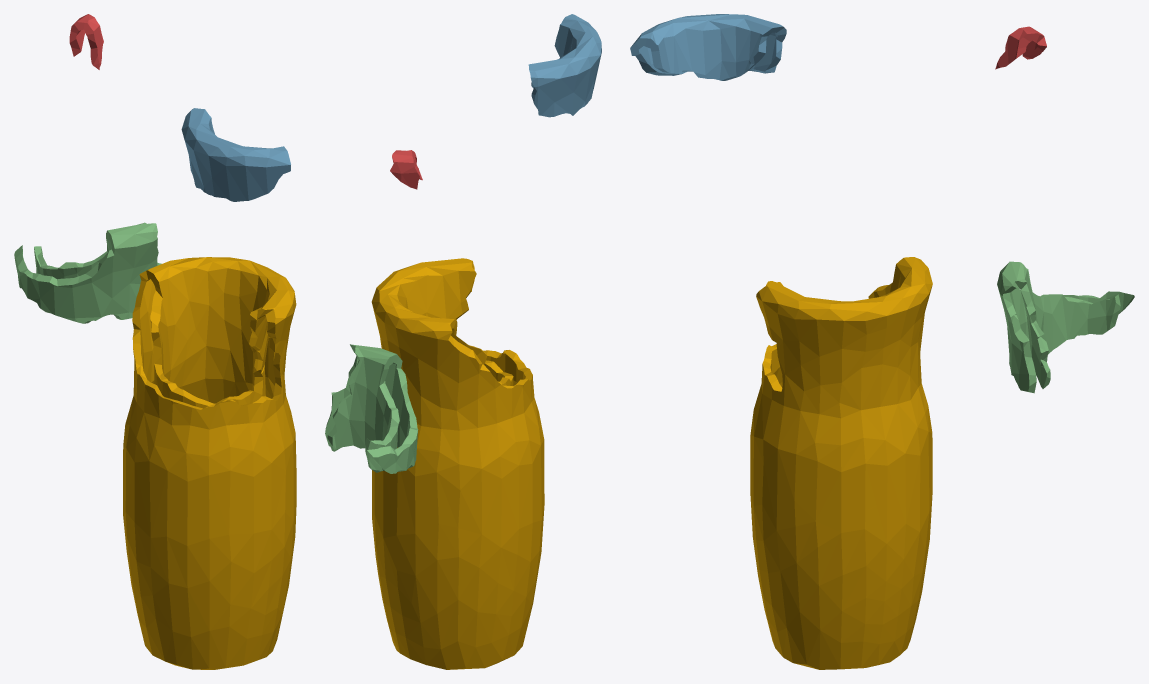
File: fractured_0_4pcs_transformed.glb
The picture shows the model from 3 angles, left to right: view 1: azimuth 30°, elevation 25°; view 2: azimuth 150°, elevation 25°; view 3: azimuth 270°, elevation 25°; orthographic projection. The views are drawn at different scales.
Parts seen in each view (by area): view 1: piece_0.obj, piece_3.obj, piece_2.obj, piece_12.obj; view 2: piece_0.obj, piece_3.obj, piece_2.obj, piece_12.obj; view 3: piece_0.obj, piece_2.obj, piece_3.obj, piece_12.obj.
Boxes of the visible parts, box(x1,y1,x2,y2) form: piece_0.obj: box(123, 257, 296, 669); piece_3.obj: box(14, 222, 161, 323); piece_2.obj: box(181, 108, 290, 201); piece_12.obj: box(69, 14, 103, 69); piece_0.obj: box(371, 258, 544, 669); piece_3.obj: box(325, 344, 418, 473); piece_2.obj: box(528, 14, 601, 117); piece_12.obj: box(390, 150, 422, 189); piece_0.obj: box(750, 257, 932, 669); piece_2.obj: box(630, 14, 786, 80); piece_3.obj: box(997, 261, 1134, 393); piece_12.obj: box(995, 26, 1046, 69).
Bounding box in the file's own units: 0.4439 × 1.6 × 1.23.
